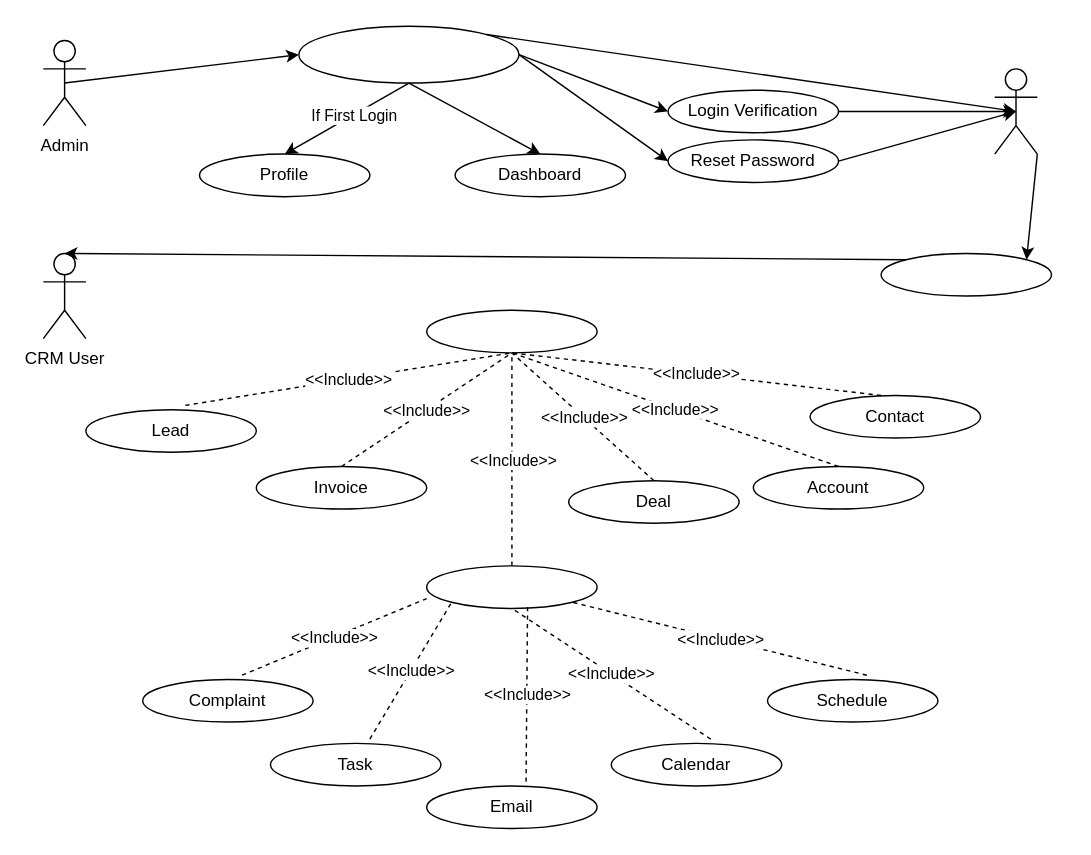
Image size: 1091x855. Some labels were removed from this diagram. Each missing label, with the box of its shape:
Activities: (425, 564, 597, 608)
CRM: (425, 309, 597, 353)
CRM System: (993, 67, 1037, 154)
Login/Signup: (297, 25, 519, 83)
Reminder: (880, 252, 1052, 296)
